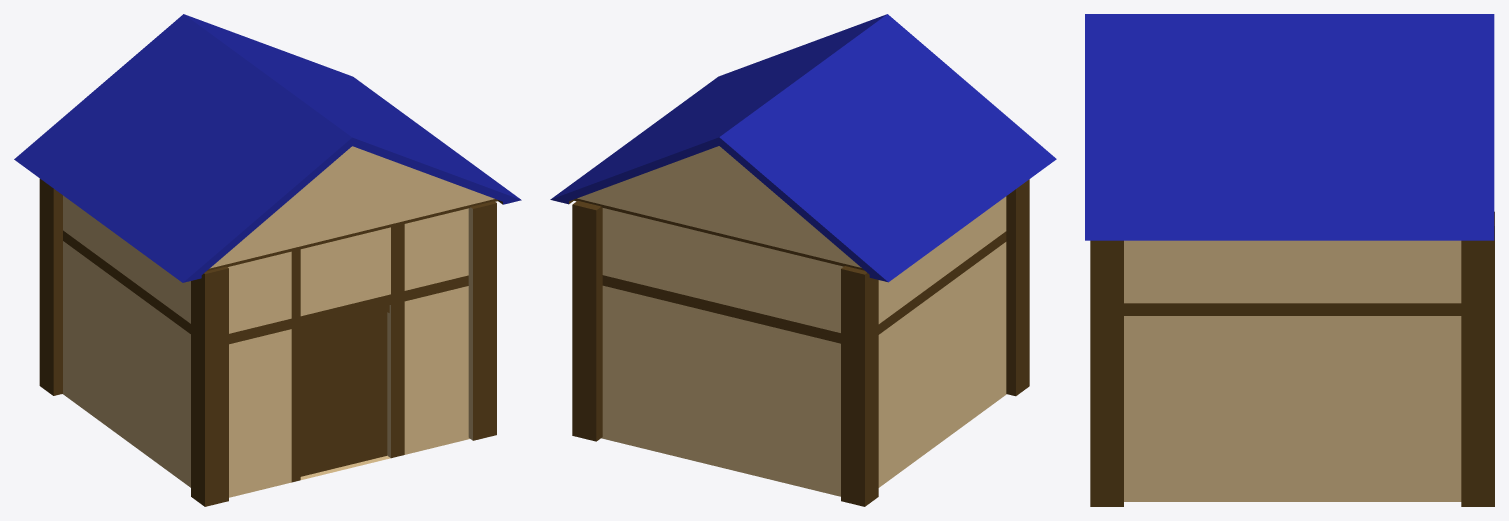
File: HouseT1.fbx
3 views of the same model, side by side, from view 1: azimuth 30°, elevation 25°; view 2: azimuth 150°, elevation 25°; view 3: azimuth 270°, elevation 25° (orthographic). The views are drawn at different scales.
Visible parts, largest first — view 1: HouseT1; view 2: HouseT1; view 3: HouseT1.
Boxes of the visible parts, x1,y1,x2,y2 form: HouseT1: [14, 14, 521, 506]; HouseT1: [550, 14, 1056, 506]; HouseT1: [1085, 14, 1494, 506].
Bounding box in the file's own units: 801 × 880 × 928.
